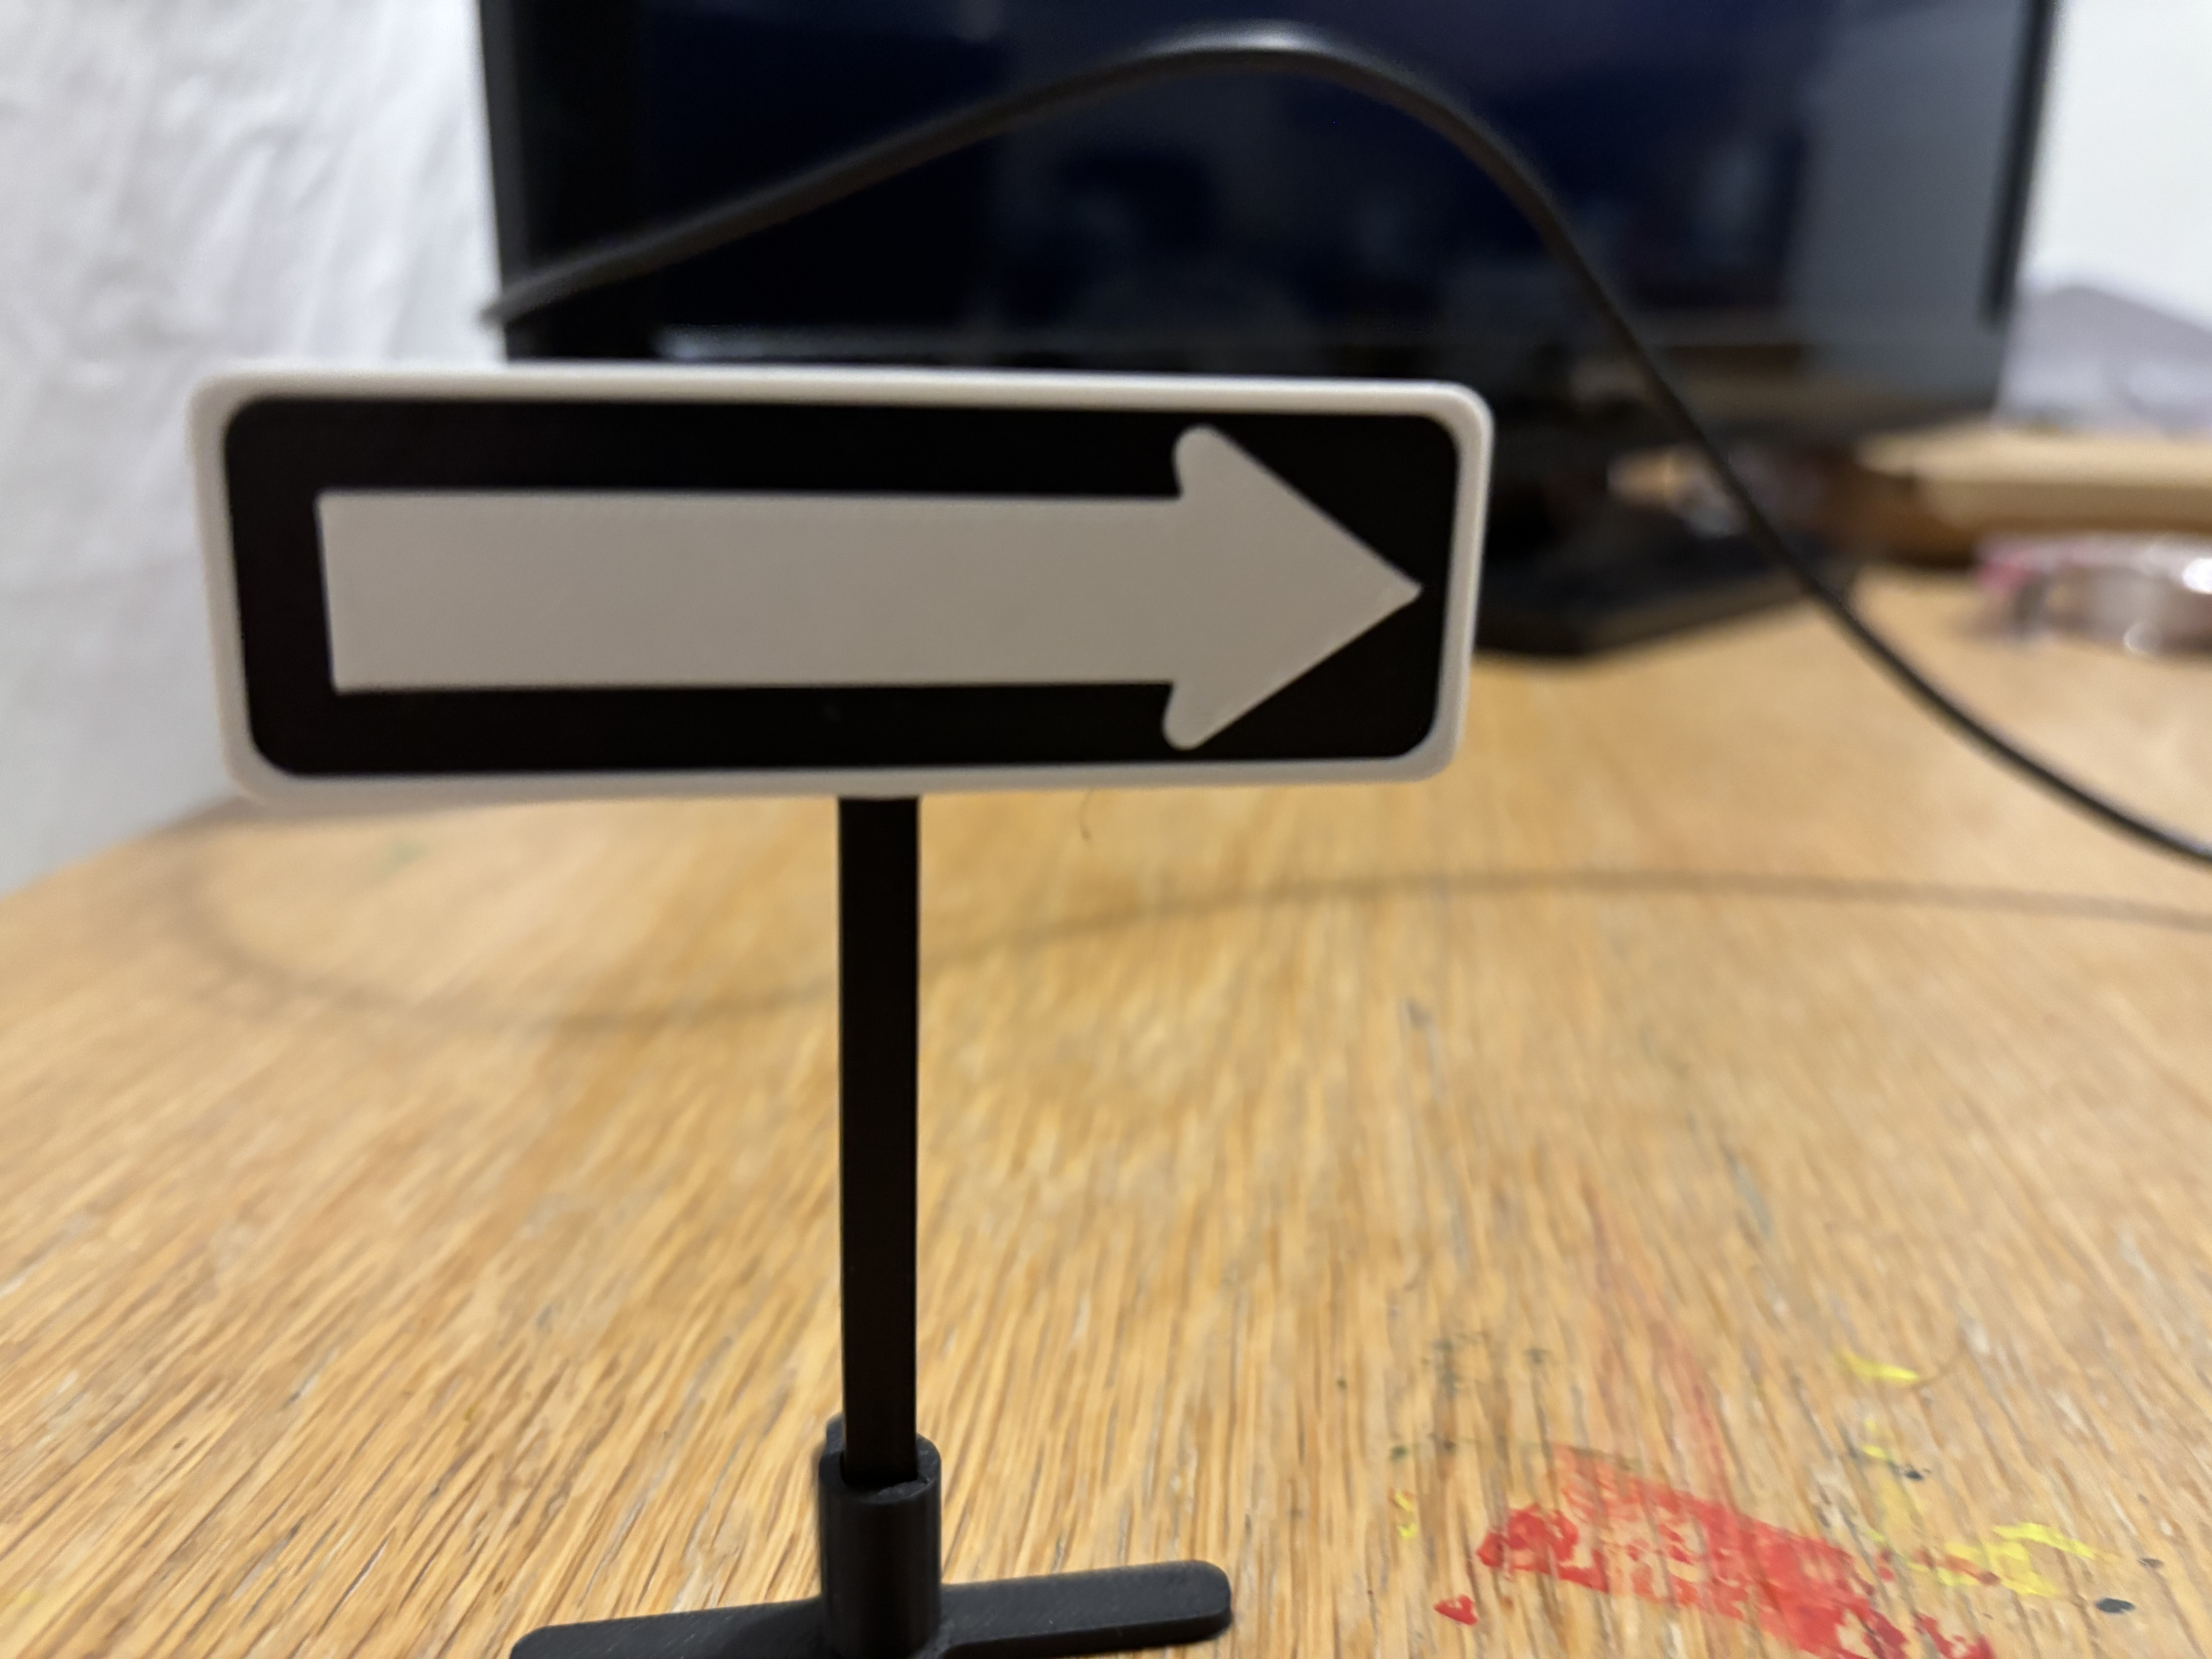sign_oneway_right: (193, 347, 1487, 802)
